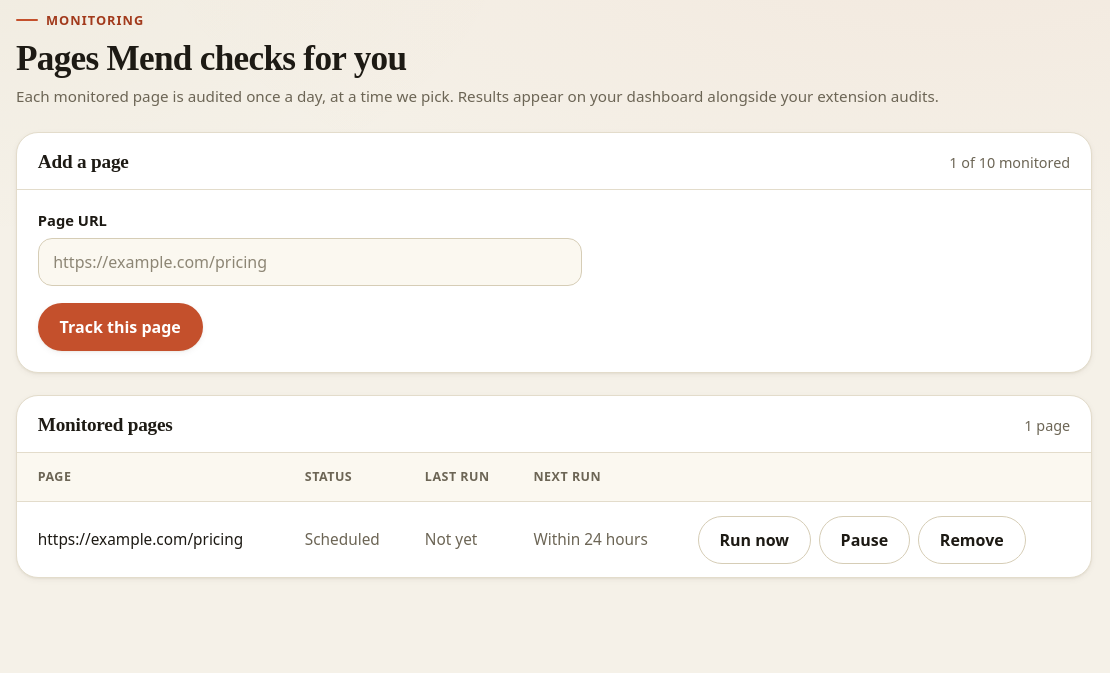
Test: MonitorsClient › surfaces a failed scan's error on the row
Step 1. Click the button "Run now" → x=754, y=540, box [698, 516, 811, 564]
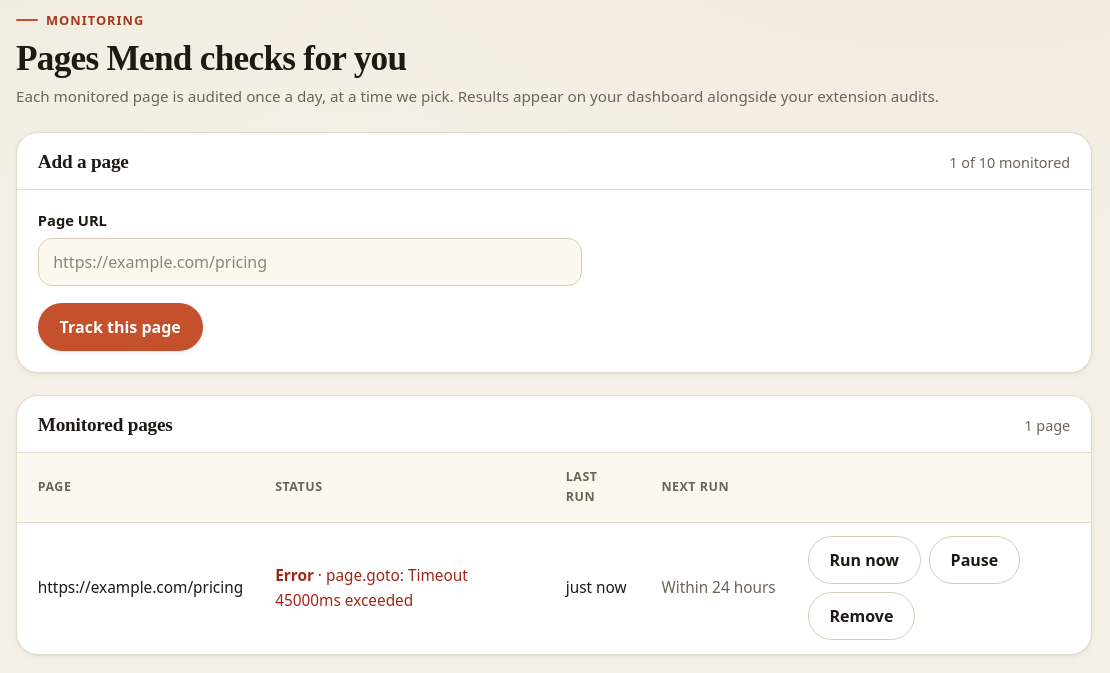
expect the text "· page.goto: Timeout 45000ms exceeded" is shown: met, box [275, 565, 468, 611]
